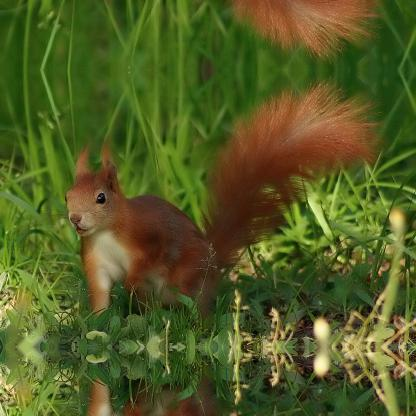Squirrel: (38, 78, 384, 322), (38, 0, 385, 61)
